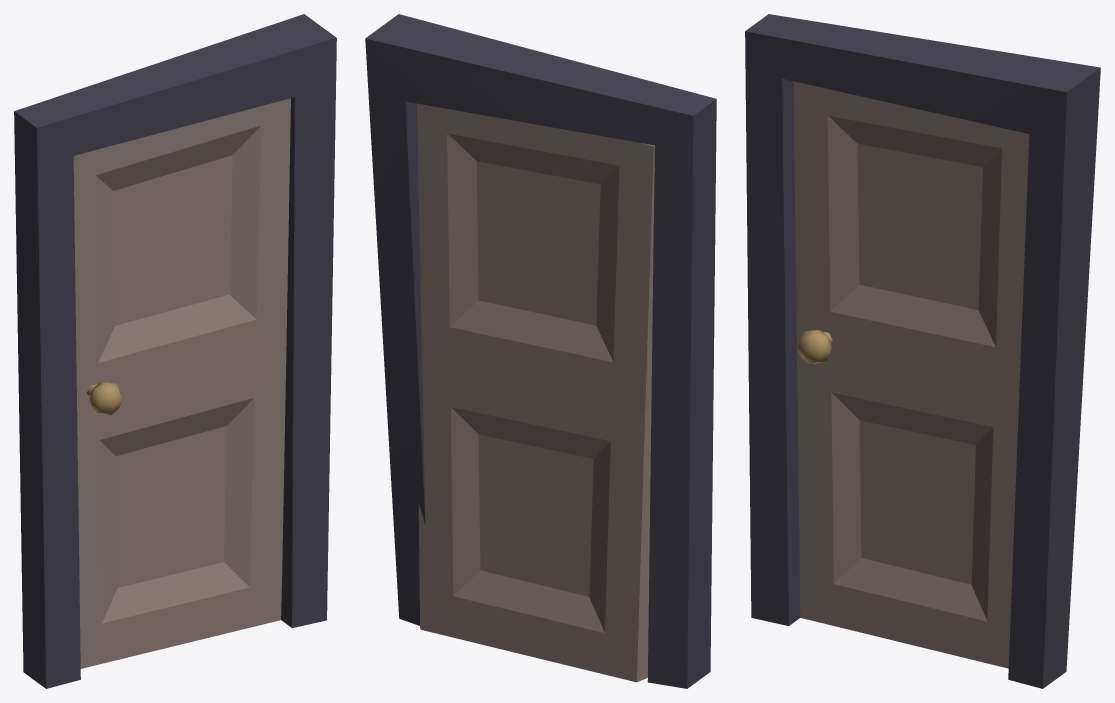
File: puertaInicio.fbx
The picture shows the model from 3 angles, left to right: view 1: azimuth 30°, elevation 25°; view 2: azimuth 150°, elevation 25°; view 3: azimuth 330°, elevation 25°; orthographic projection. The views are drawn at different scales.
Parts seen in each view (by area): view 1: puertita, marquito; view 2: puertita, marquito; view 3: puertita, marquito.
Boxes of the visible parts, left/top/right/bottom form: puertita: left=73, top=98, right=290, bottom=668; marquito: left=14, top=14, right=336, bottom=688; puertita: left=417, top=103, right=654, bottom=682; marquito: left=365, top=14, right=716, bottom=688; puertita: left=793, top=81, right=1029, bottom=668; marquito: left=745, top=14, right=1100, bottom=688.
Bounding box in the file's own units: 246 × 443 × 64.93.
